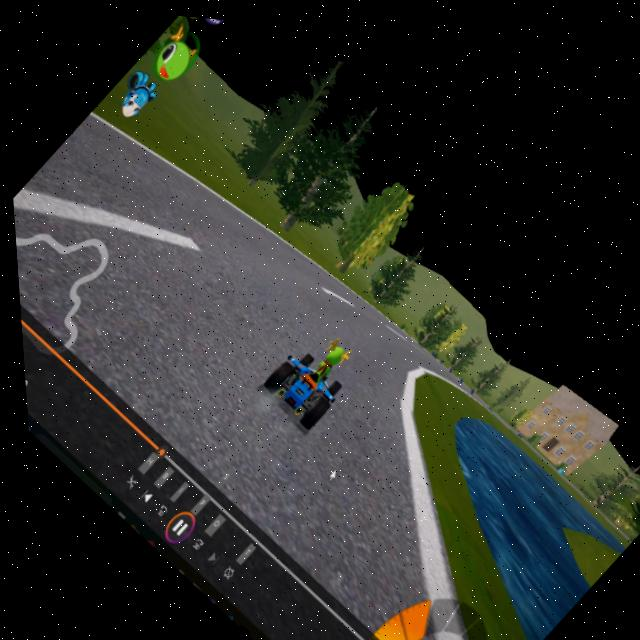off_track: (368, 367, 623, 616), (176, 88, 370, 273)
player_kart: (240, 301, 373, 438)
track: (278, 241, 429, 386)
